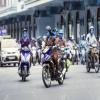motorcycles: (40, 50, 64, 88), (84, 39, 99, 73), (18, 48, 32, 81)
